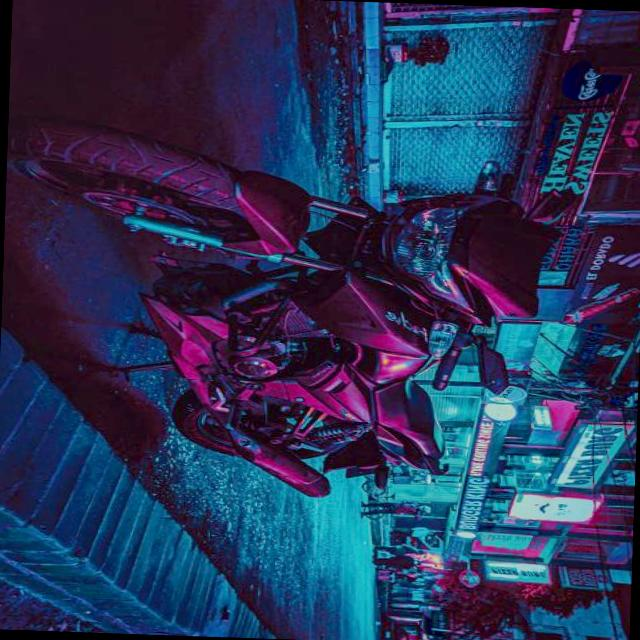motorcycle: (0, 112, 574, 506)
